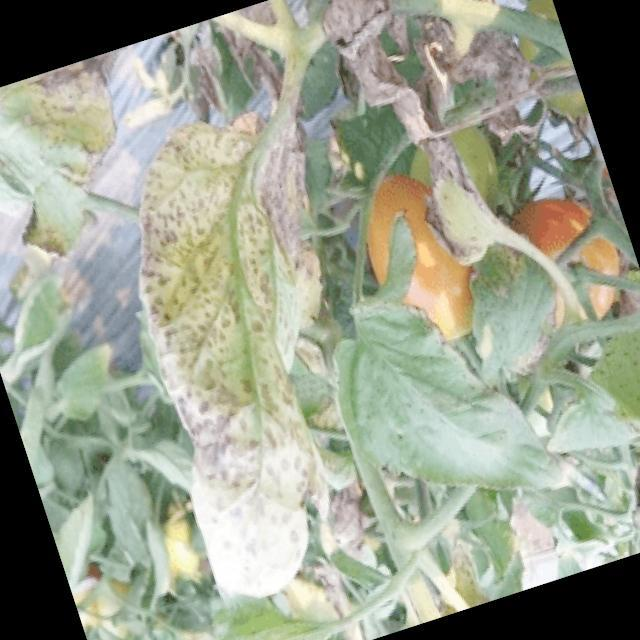Tomato bacterial spot leaf: (74, 94, 432, 616), (322, 262, 571, 546)
